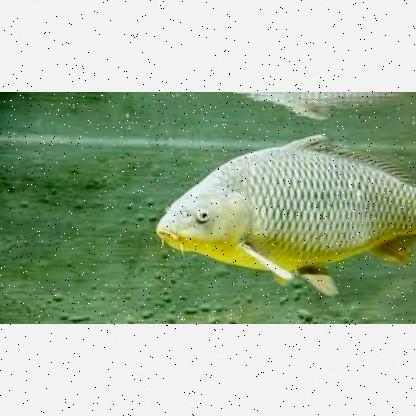ikan-mas: (158, 142, 414, 282)
